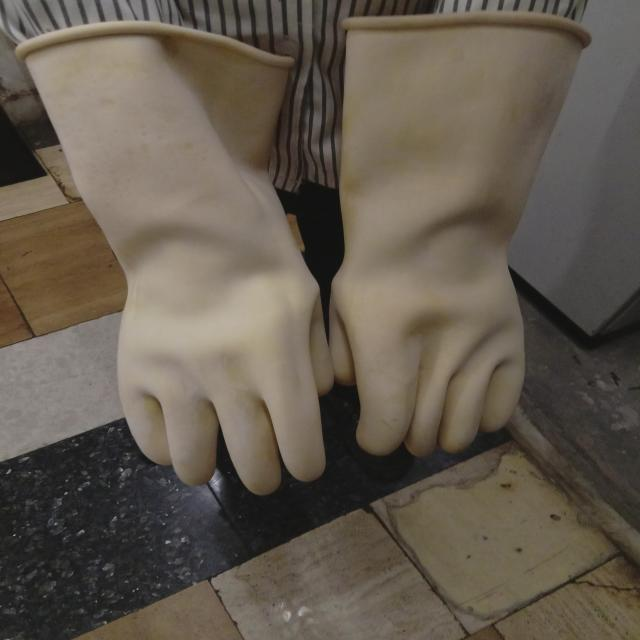glove: (16, 19, 346, 498), (321, 9, 596, 462)
